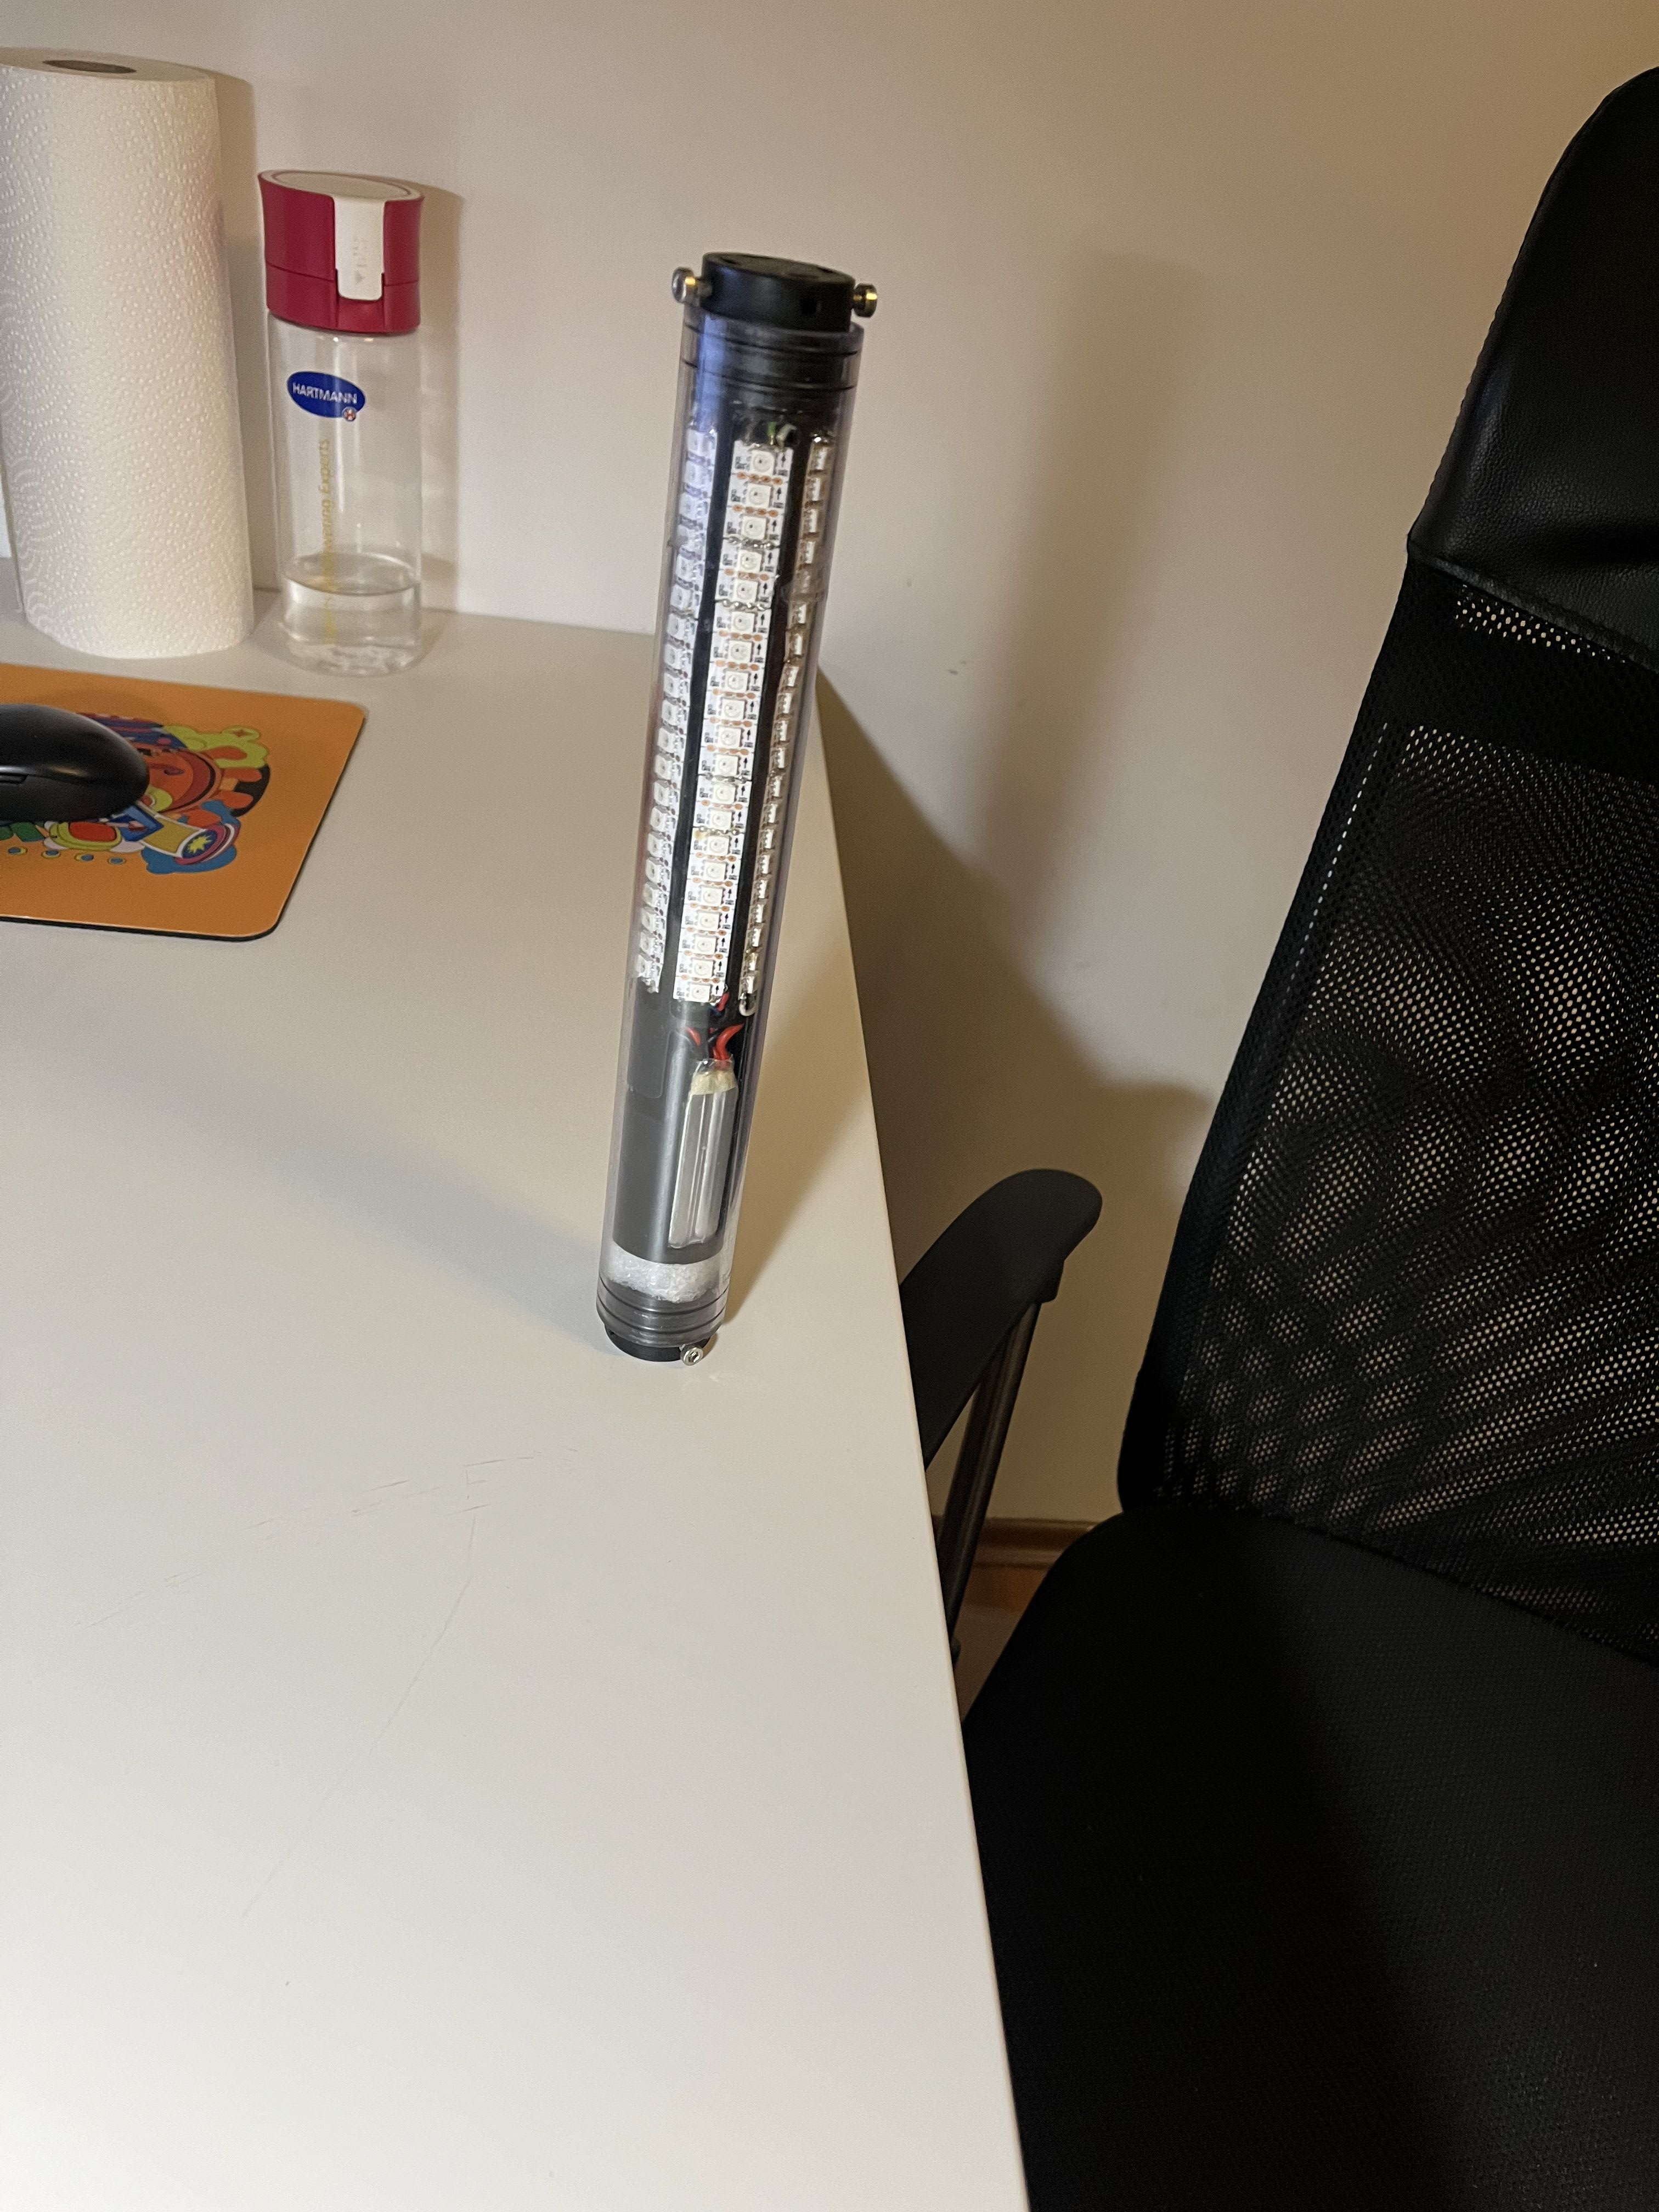black: (596, 326, 866, 1366)
